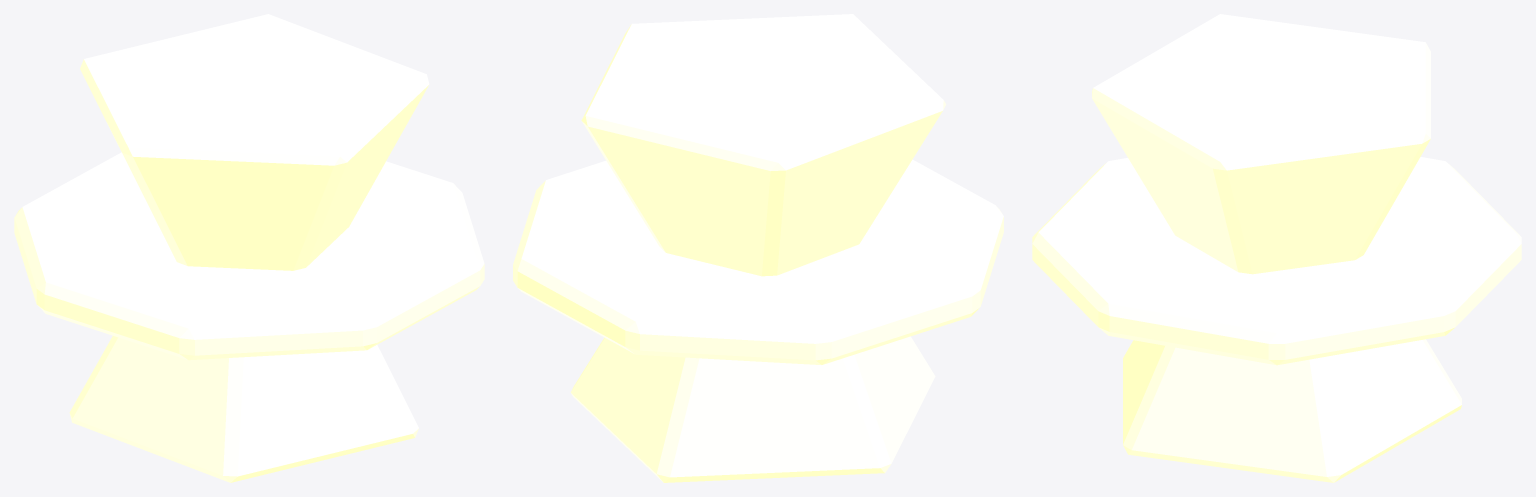
Rendered from Pickup_Score.fbx.
3 views of the same model, side by side, from view 1: azimuth 30°, elevation 25°; view 2: azimuth 150°, elevation 25°; view 3: azimuth 270°, elevation 25° (orthographic). The views are drawn at different scales.
Visible parts, largest first — view 1: Pickup_Score; view 2: Pickup_Score; view 3: Pickup_Score.
Boxes of the visible parts, bbox=[...] form: Pickup_Score: bbox=[14, 14, 484, 482]; Pickup_Score: bbox=[513, 14, 1003, 482]; Pickup_Score: bbox=[1032, 14, 1521, 482].
Bounding box in the file's own units: 0.5523 × 0.4 × 0.5523.
